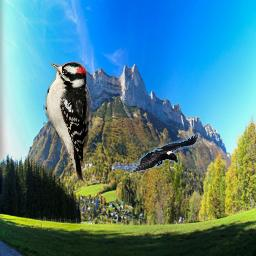Crow: (131, 133, 199, 172)
Woodpecker: (43, 62, 91, 183)
